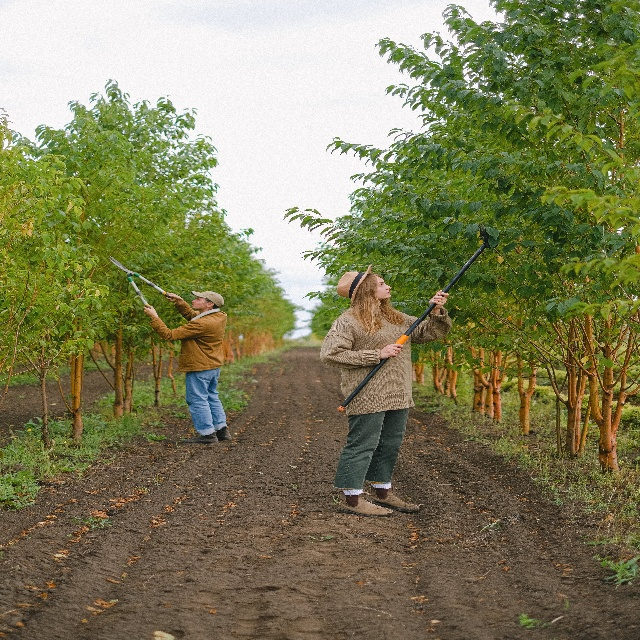Sin_guantes: (429, 289, 448, 309), (380, 344, 402, 357), (142, 303, 157, 321), (165, 290, 181, 304)
